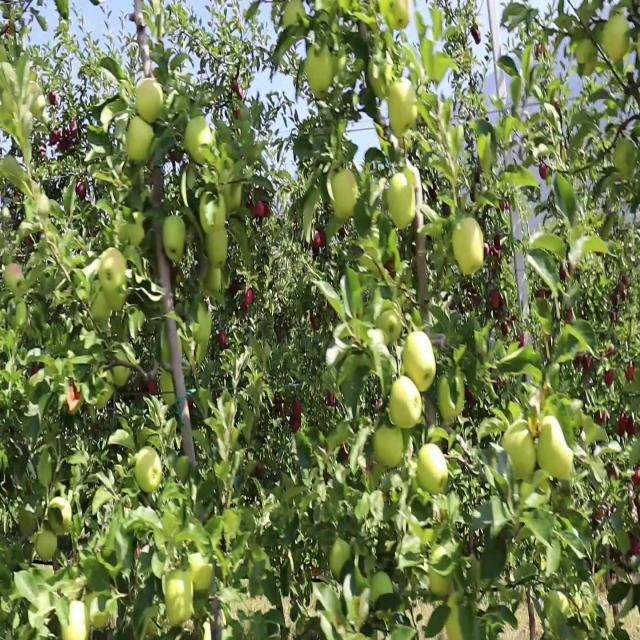apple: (540, 419, 575, 484), (404, 327, 436, 391), (416, 440, 449, 498), (452, 220, 485, 277), (504, 426, 537, 482), (388, 78, 419, 135), (388, 170, 416, 233), (392, 376, 423, 432), (328, 170, 360, 224), (164, 568, 192, 626), (600, 14, 631, 66), (308, 42, 335, 94), (136, 447, 164, 496), (136, 78, 165, 124), (100, 248, 128, 295), (376, 426, 405, 469), (128, 120, 155, 165), (188, 120, 215, 165), (164, 213, 188, 263), (200, 191, 227, 235), (440, 376, 464, 425), (428, 554, 453, 599), (188, 554, 216, 594), (368, 56, 393, 100), (380, 305, 404, 347), (88, 590, 111, 633), (612, 142, 637, 178), (572, 35, 599, 68), (388, 0, 413, 34), (576, 42, 599, 78), (68, 604, 91, 639), (192, 305, 212, 345), (208, 227, 229, 265), (204, 263, 227, 297), (332, 540, 350, 581), (92, 291, 113, 325), (148, 170, 165, 212), (105, 284, 128, 315), (36, 533, 58, 564), (224, 184, 244, 217), (20, 504, 39, 537), (68, 383, 87, 414), (444, 611, 464, 639), (112, 362, 131, 391), (128, 220, 145, 249), (256, 191, 272, 220), (164, 376, 176, 411), (32, 92, 45, 121), (336, 49, 349, 76), (260, 191, 272, 220), (576, 355, 593, 372), (620, 412, 629, 439), (628, 419, 640, 439), (248, 199, 259, 220), (604, 369, 616, 386), (52, 127, 61, 149), (244, 291, 256, 306), (292, 405, 304, 420), (596, 412, 608, 427), (628, 419, 638, 436), (244, 291, 251, 313), (48, 92, 58, 107), (292, 419, 301, 434), (632, 540, 640, 556), (564, 312, 573, 325)
